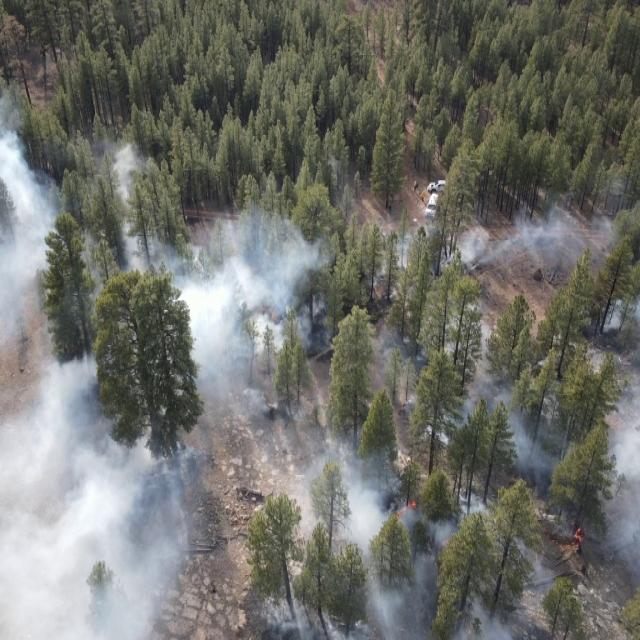fire: (542, 522, 588, 559), (390, 494, 426, 524)
smoke: (268, 444, 552, 640), (0, 88, 161, 354), (0, 445, 210, 640), (160, 215, 336, 445), (368, 304, 533, 444), (392, 204, 616, 284), (0, 356, 160, 442), (594, 297, 640, 594), (533, 409, 575, 456)
